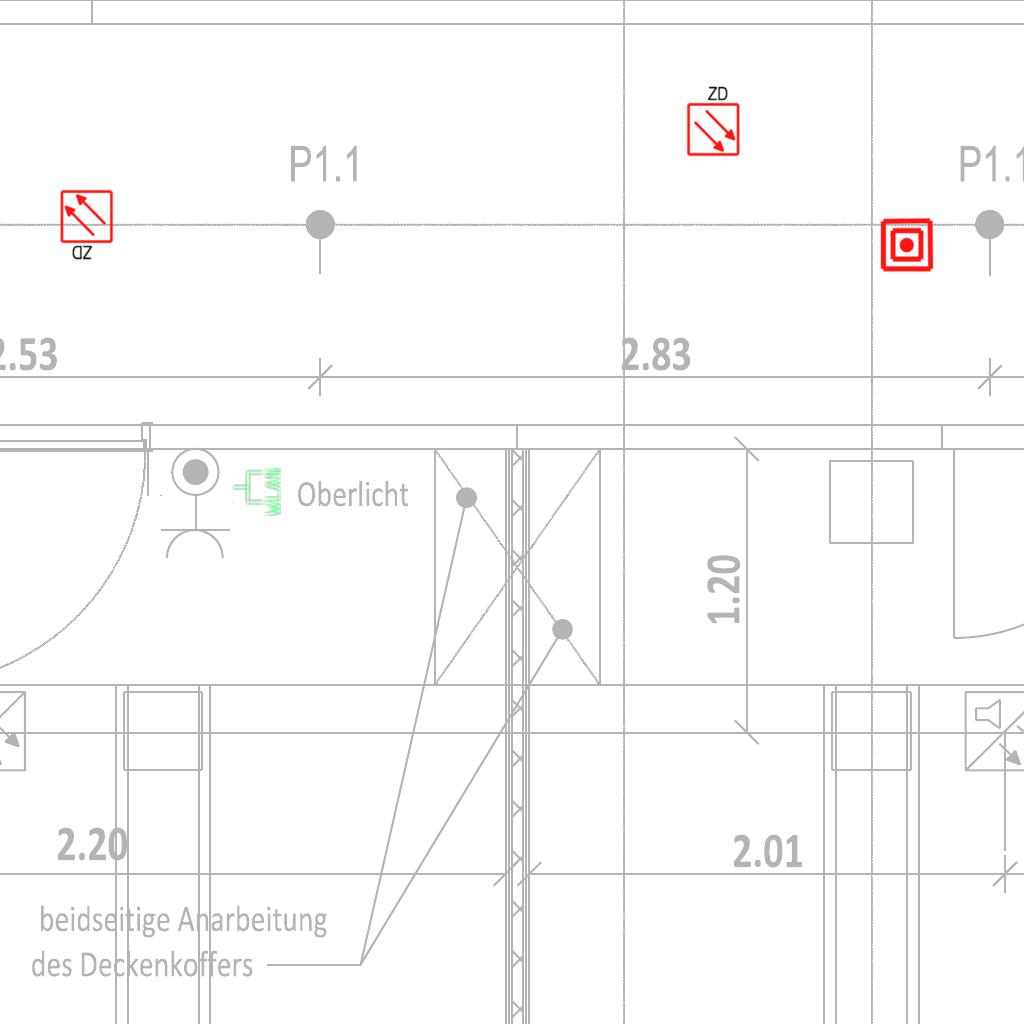NAM-Nichtautomatischer_Melder: (879, 217, 935, 273)
WLAN: (231, 466, 283, 518)
ZD_Melder_in_Zwischendecke_mit_Revisionsoeffnung_mind_40_x_40_cm: (59, 189, 116, 263), (684, 83, 741, 157)
